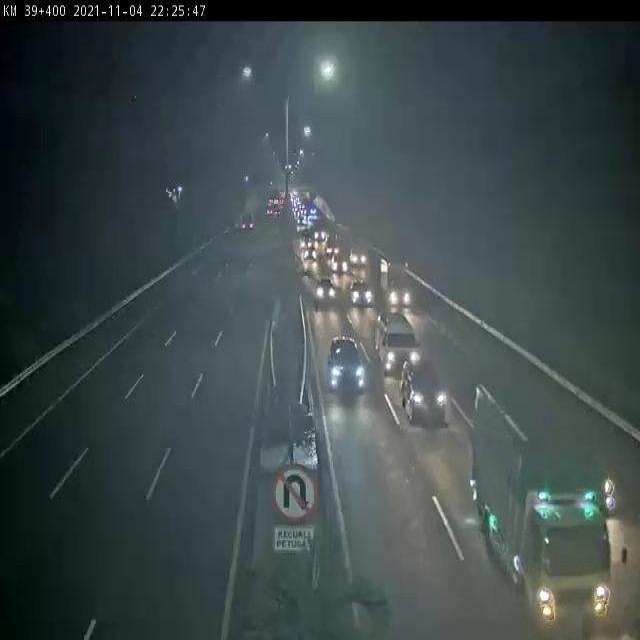bus-s-: (375, 308, 421, 375)
car: (400, 359, 447, 425), (327, 328, 367, 393), (313, 274, 337, 306), (350, 278, 373, 306)
small truck: (474, 375, 618, 624)
truck-m-: (377, 253, 417, 311)
